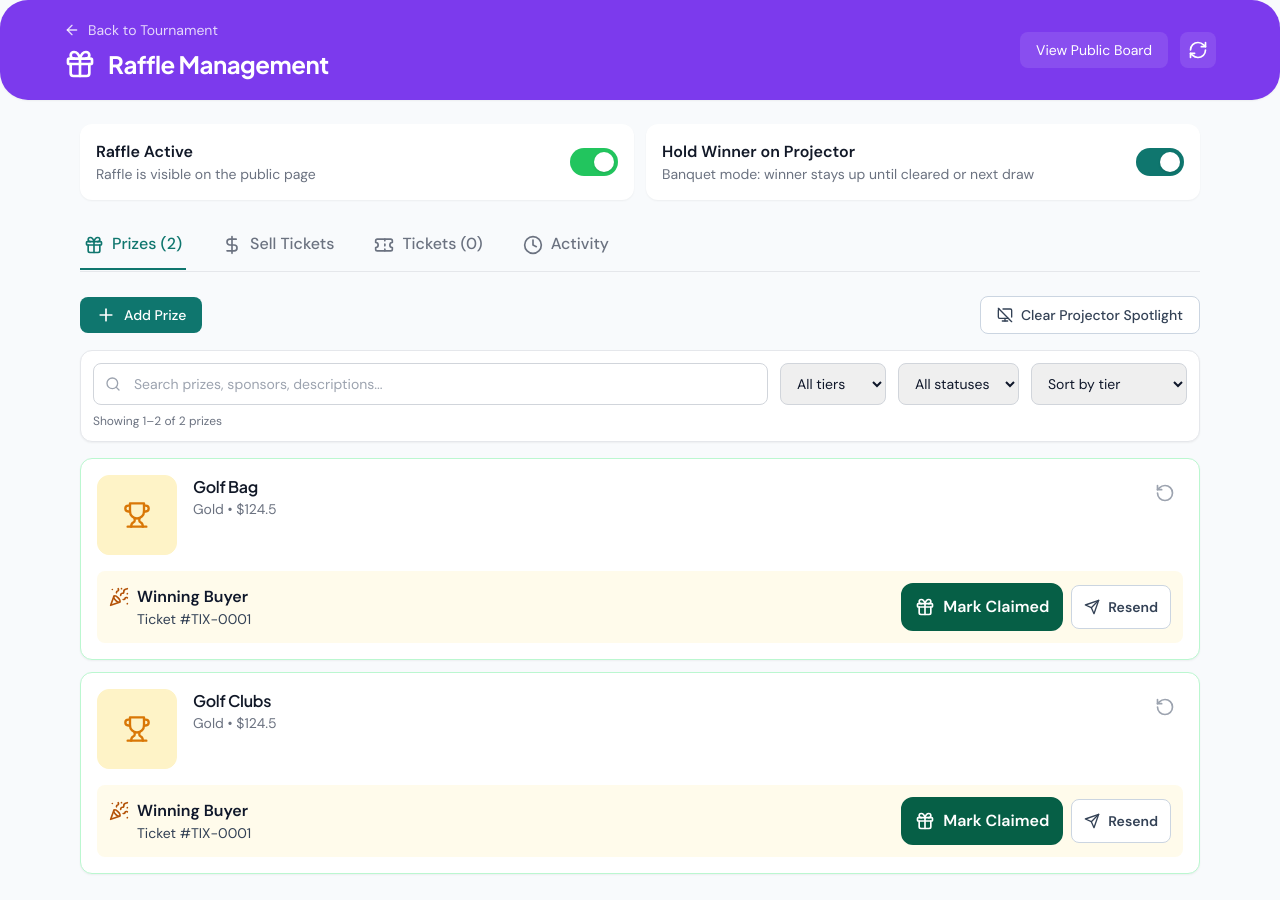
Scenario: Raffle Management › collects an optional void reason in the app dialog
The width and height of the screenshot is (1280, 900).
Later steps or results of the test are not shown.
Click the button "Tickets (0)": [429, 251] box [370,232,487,270]
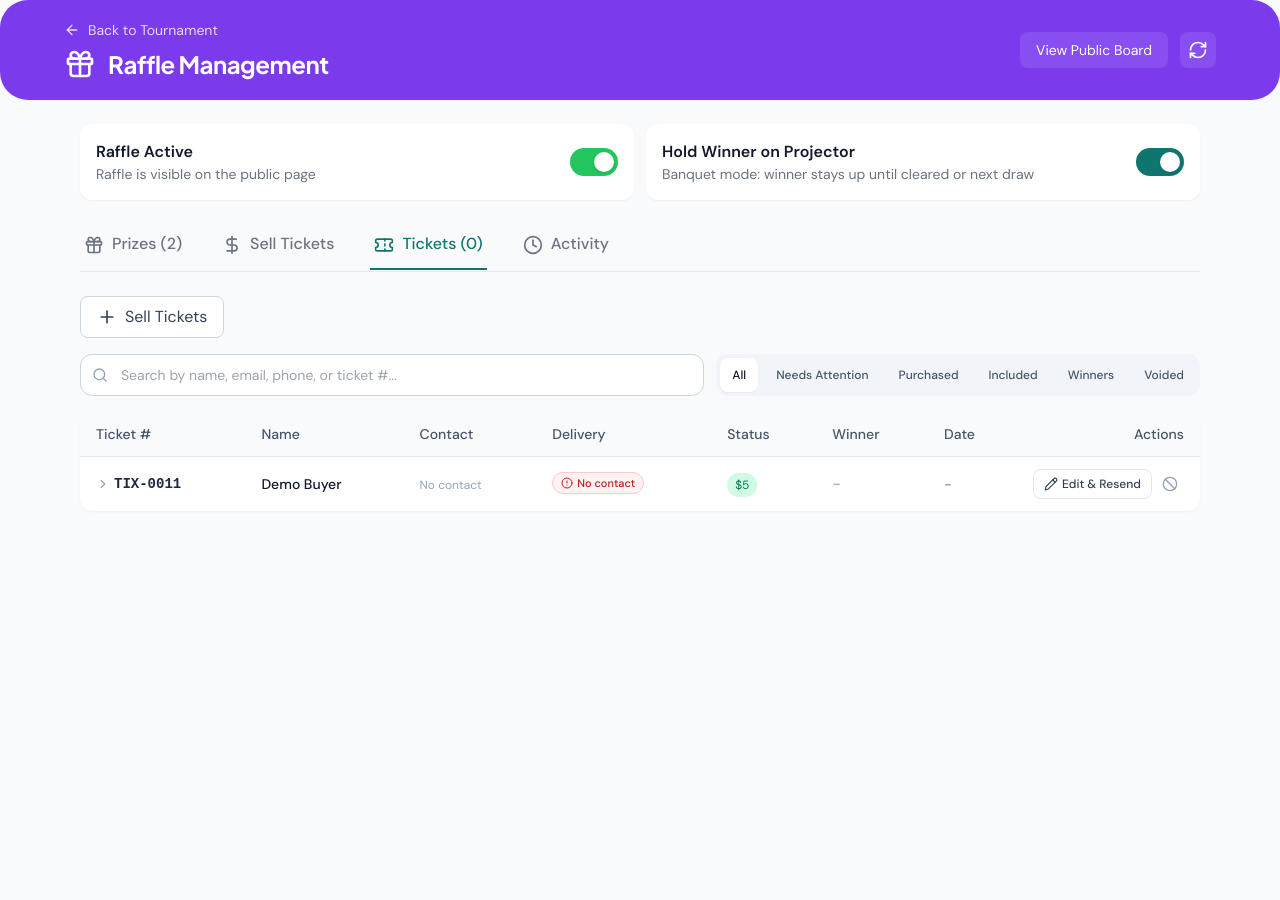
Click the button titled "Void ticket": [1170, 484] box [1156,470,1184,498]
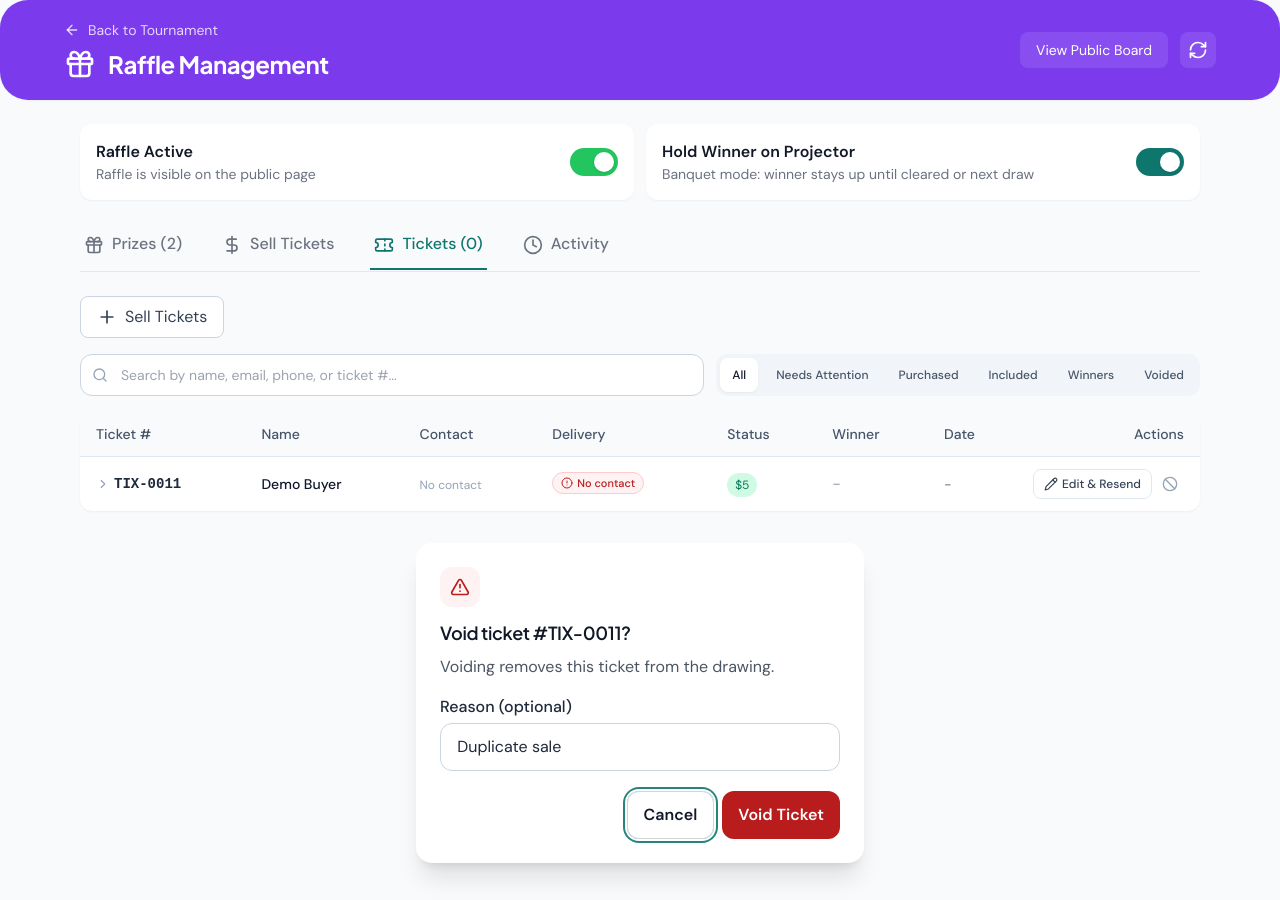
Result: the dialog shows "Void ticket #TIX-0011?" at [440,621,631,644]
